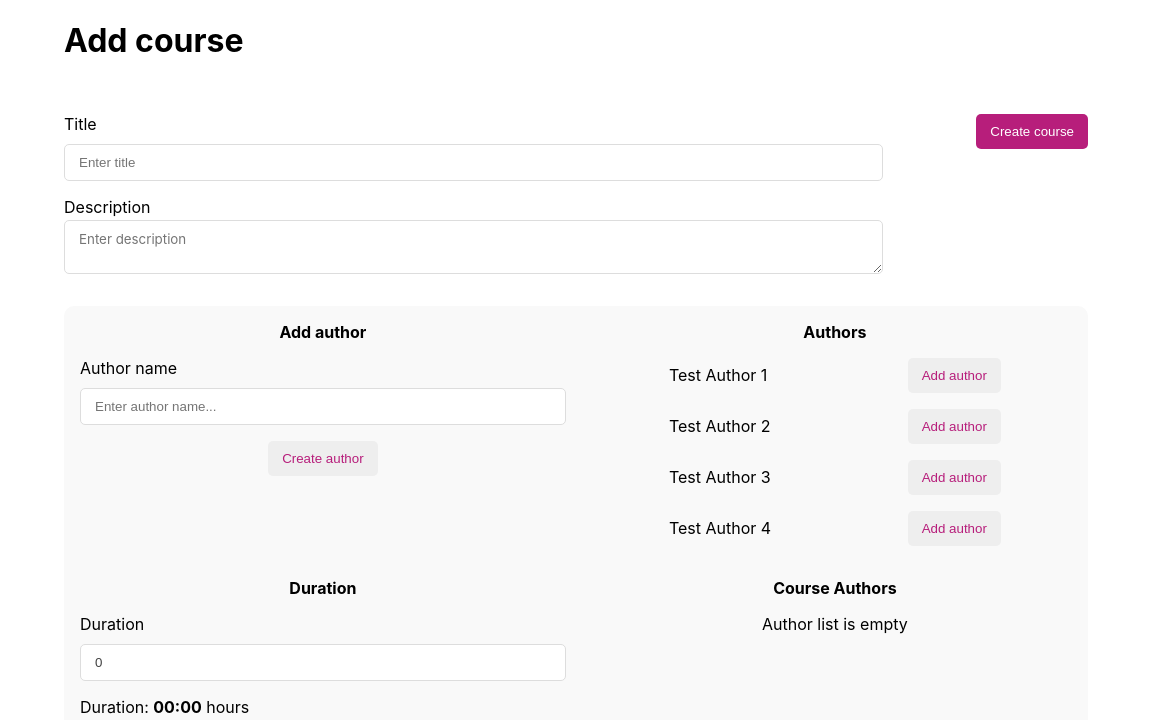
Test: CourseForm `Add author` button click should add an author to course authors list. › `Add author` button click sadds author to course authors list
Step 1. Click the button with test id "select-author-Test Author 3" → [954, 477], box x1=908 y1=460 x2=1001 y2=495
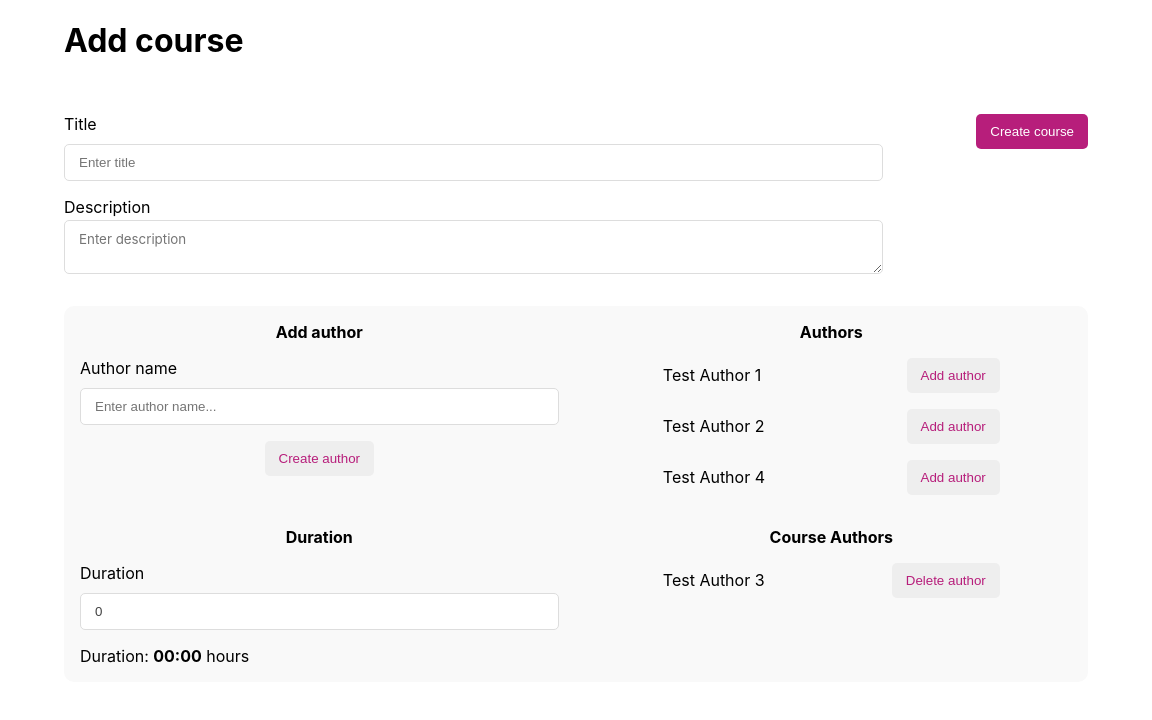
Expected: the text "Test Author 3" is shown, x1=663 y1=570 x2=765 y2=590
Expected: the number of elements with test id "authors-list-item" is 3, x1=663 y1=358 x2=1000 y2=393; x1=663 y1=409 x2=1000 y2=444; x1=663 y1=460 x2=1000 y2=495
